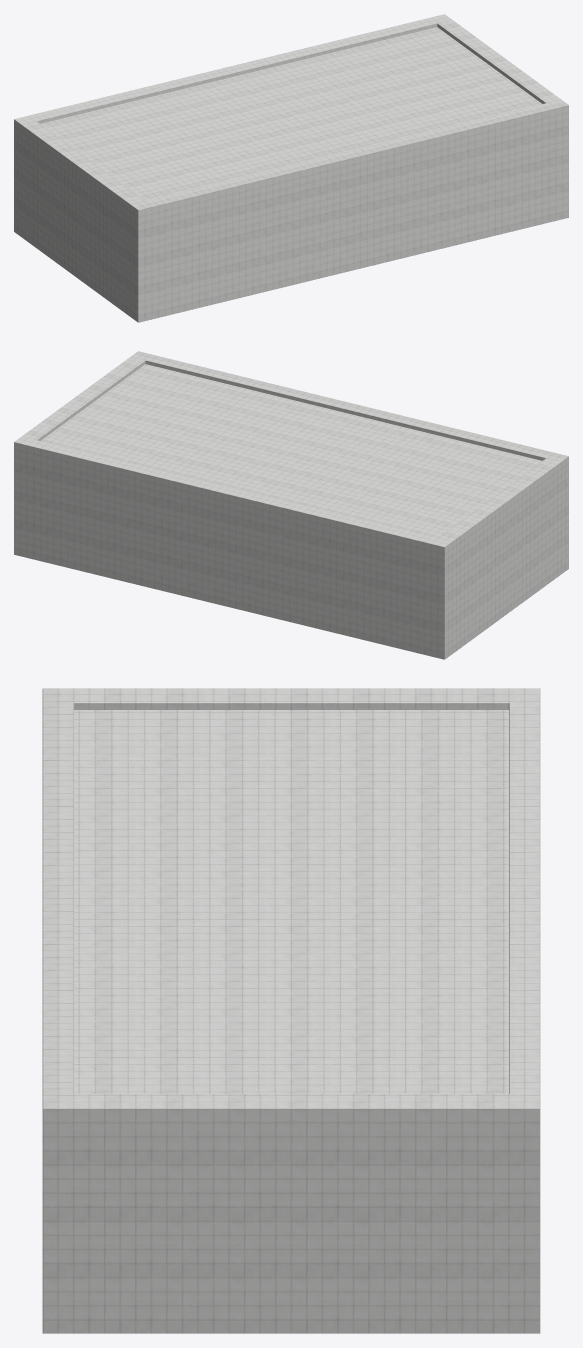
Rendered from Pool.fbx.
3 views of the same model, one above another, from view 1: azimuth 30°, elevation 25°; view 2: azimuth 150°, elevation 25°; view 3: azimuth 270°, elevation 25° (orthographic). The views are drawn at different scales.
Visible parts, largest first — view 1: Pool, Water; view 2: Pool, Water; view 3: Water, Pool.
Boxes of the visible parts, x1,y1,x2,y2 form: Pool: [14, 14, 568, 322]; Water: [41, 27, 541, 200]; Pool: [14, 351, 568, 659]; Water: [41, 364, 541, 537]; Water: [74, 710, 508, 1093]; Pool: [42, 688, 540, 1333].
Bounding box in the file's own units: 1600 × 400 × 800.
